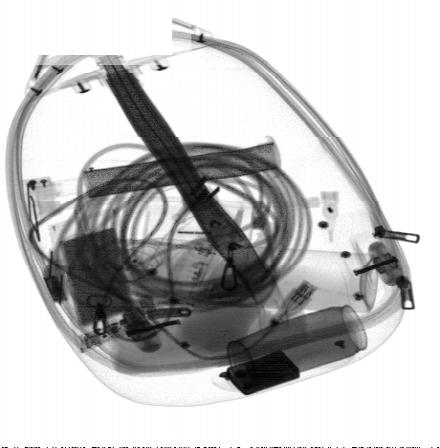Lighter: (226, 349, 301, 397)
Powerbank: (48, 204, 164, 354)
Sprayer: (57, 234, 379, 314)
